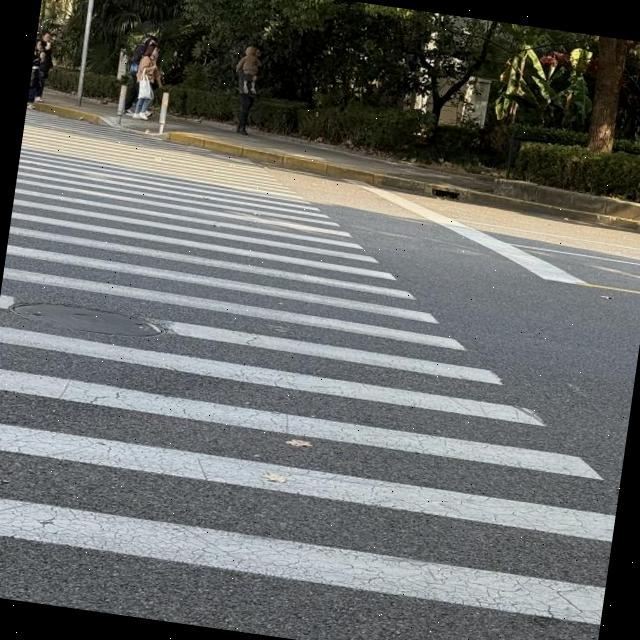curb: (162, 132, 640, 232), (37, 105, 109, 125)
